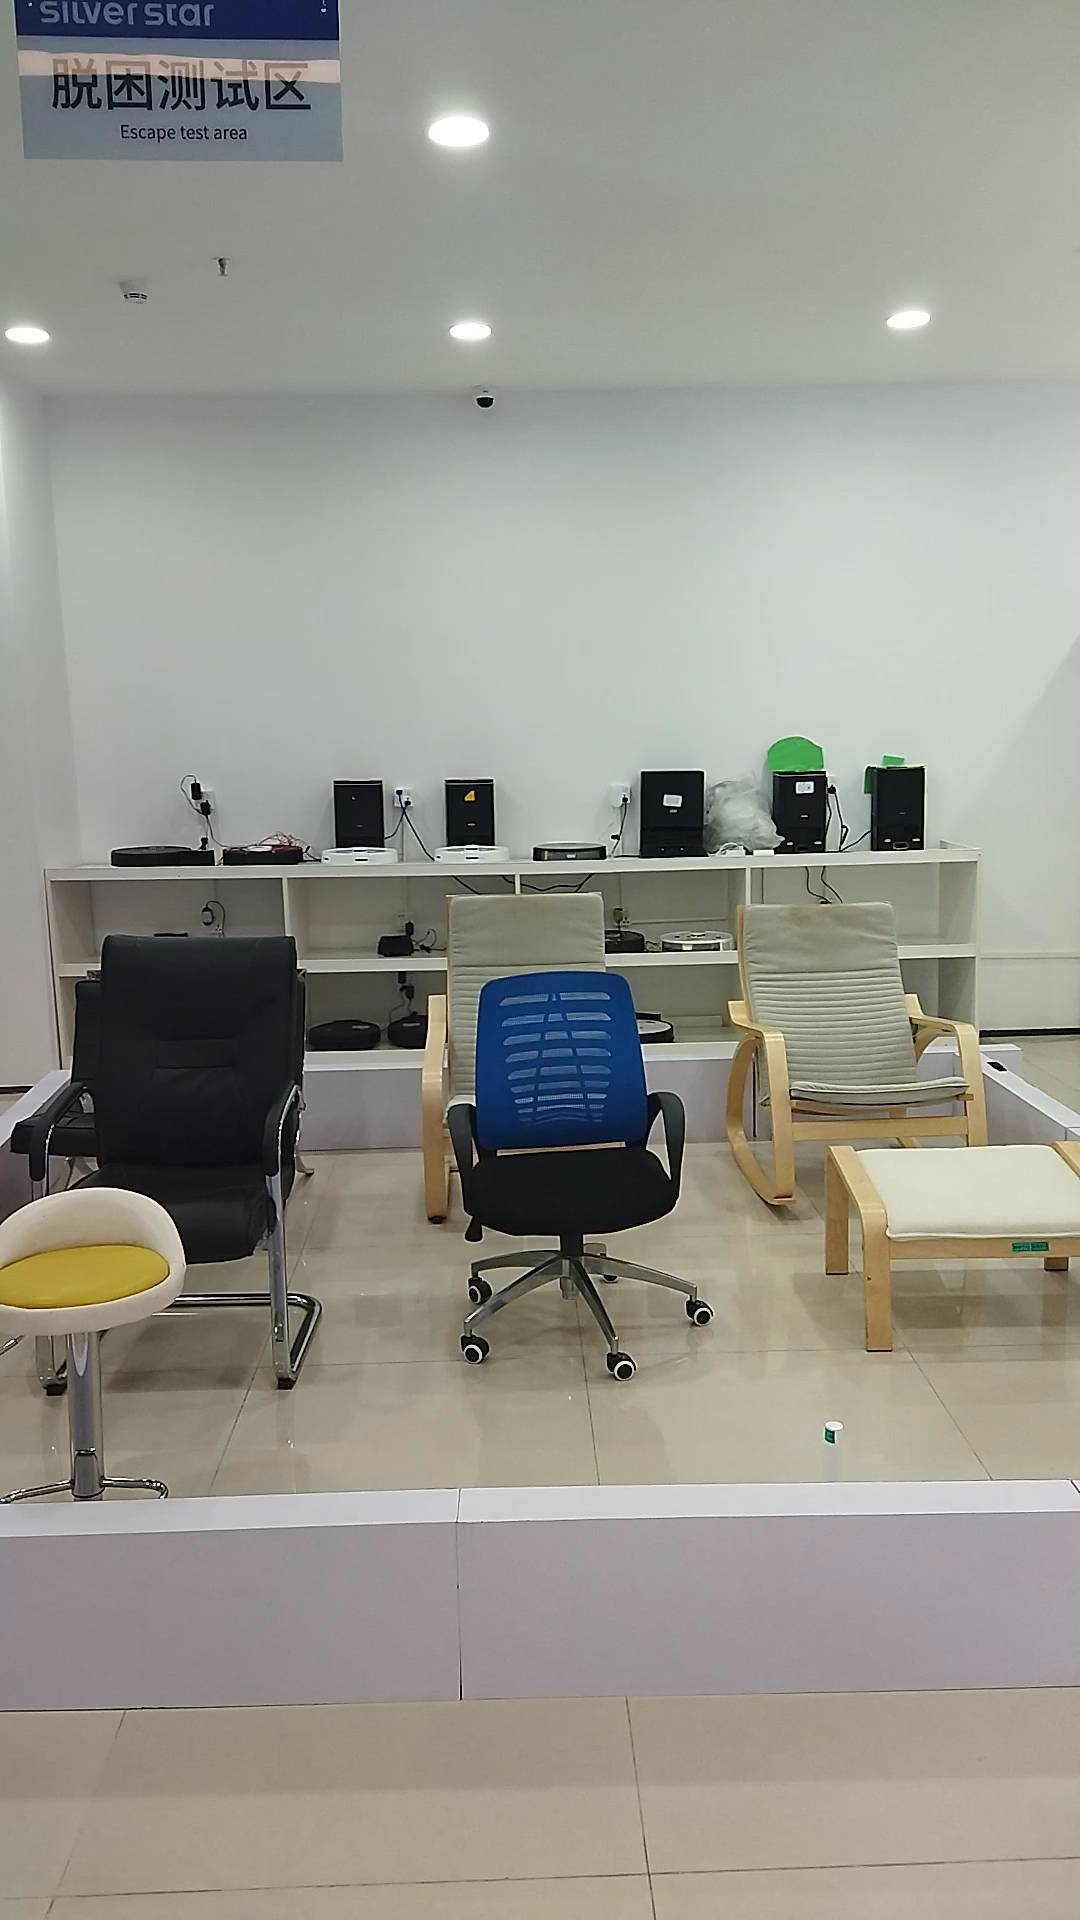dust collecting barrel: (636, 770, 702, 858), (866, 765, 927, 852), (774, 771, 833, 855), (327, 779, 384, 855), (444, 781, 493, 852)
recharge seat: (375, 936, 419, 961)
